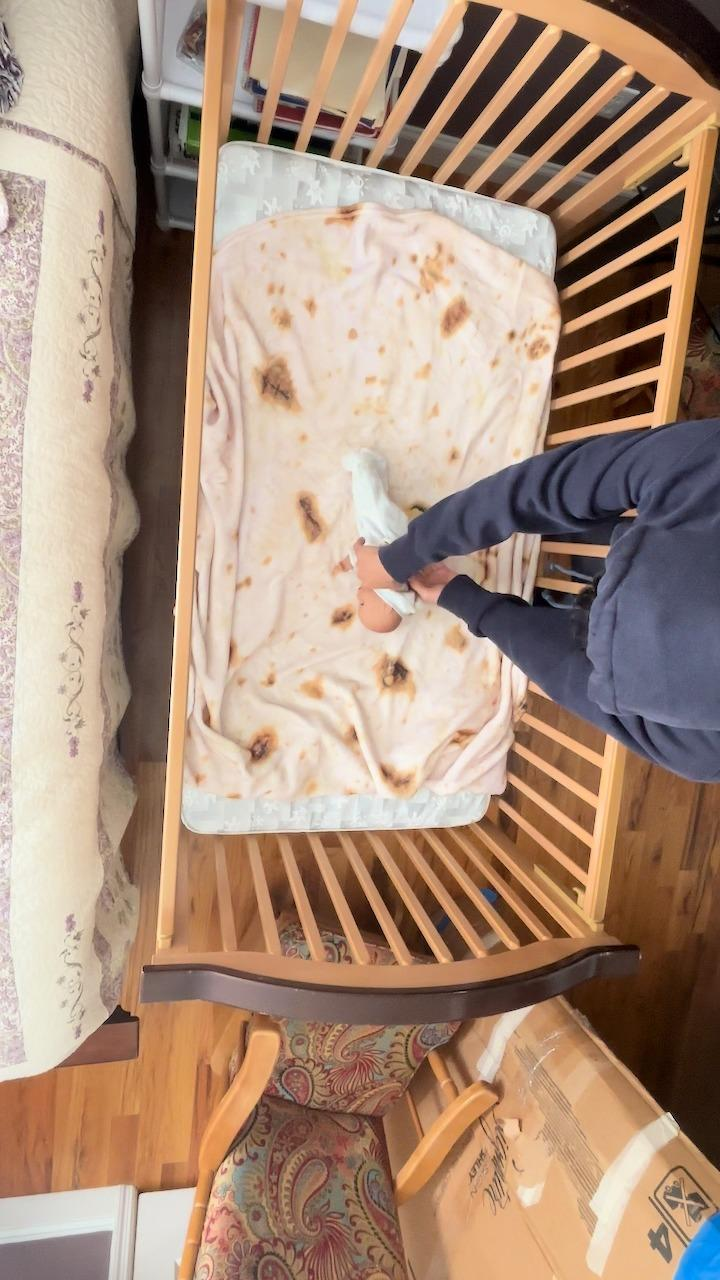baby: (322, 446, 436, 637)
